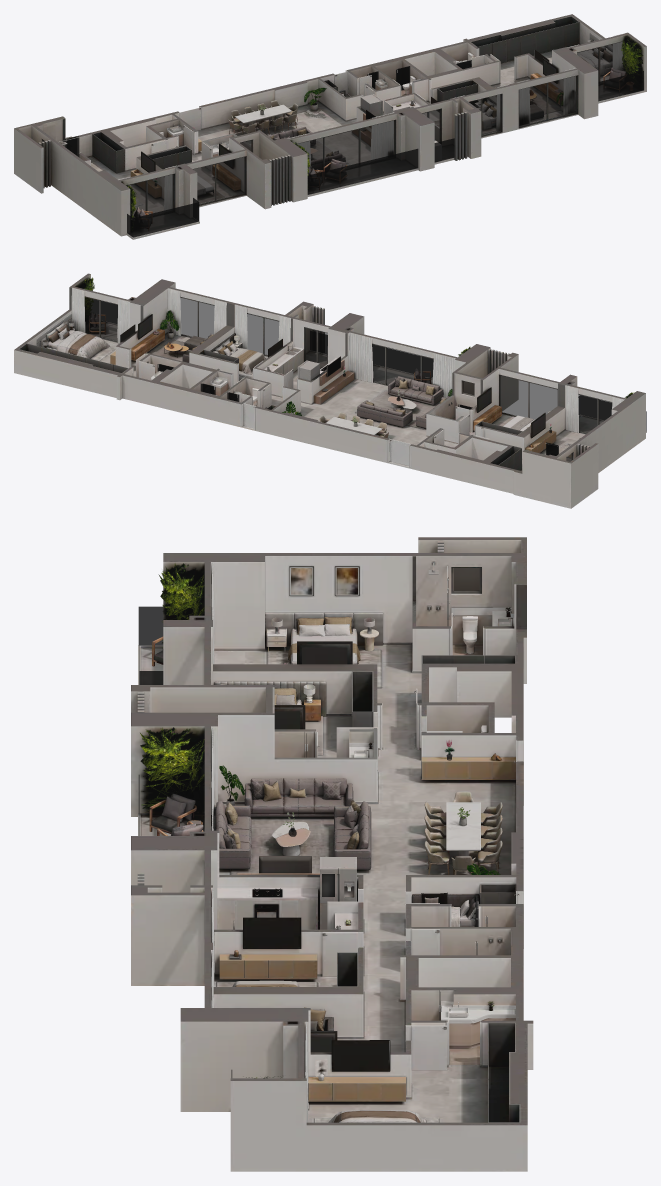
Rendered from floor_plan_1.glb.
3 views of the same model, one above another, from view 1: azimuth 30°, elevation 25°; view 2: azimuth 150°, elevation 25°; view 3: azimuth 270°, elevation 25° (orthographic). The views are drawn at different scales.
Parts seen in each view (by area): view 1: rendertotexture_2, Glass_0, bake_1, bakeplantas_3; view 2: rendertotexture_2, Glass_0, bake_1, B-ACC-06-Plant_4, bakeplantas_3; view 3: rendertotexture_2, bake_1, bakeplantas_3, Glass_0.
Part boxes in pixels (x1=…): rendertotexture_2: x1=14, y1=14, x2=646, y2=239; Glass_0: x1=43, y1=42, x2=643, y2=237; bake_1: x1=134, y1=48, x2=625, y2=222; bakeplantas_3: x1=127, y1=38, x2=643, y2=229; rendertotexture_2: x1=14, y1=273, x2=646, y2=508; Glass_0: x1=84, y1=297, x2=646, y2=461; bake_1: x1=46, y1=311, x2=571, y2=457; B-ACC-06-Plant_4: x1=160, y1=310, x2=551, y2=434; bakeplantas_3: x1=78, y1=277, x2=634, y2=398; rendertotexture_2: x1=131, y1=537, x2=533, y2=1171; bake_1: x1=161, y1=617, x2=479, y2=1122; bakeplantas_3: x1=140, y1=563, x2=281, y2=1078; Glass_0: x1=138, y1=568, x2=487, y2=1077.
Size of the model in its own units: 31.56 by 2.72 by 9.95.
5 materials, 4 textured.
